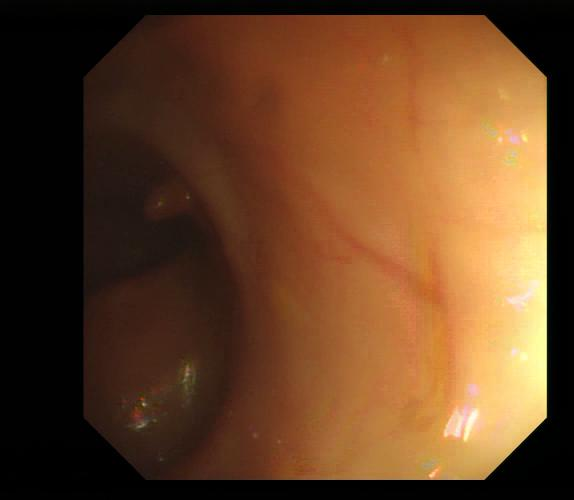polyp: (142, 176, 199, 227)
